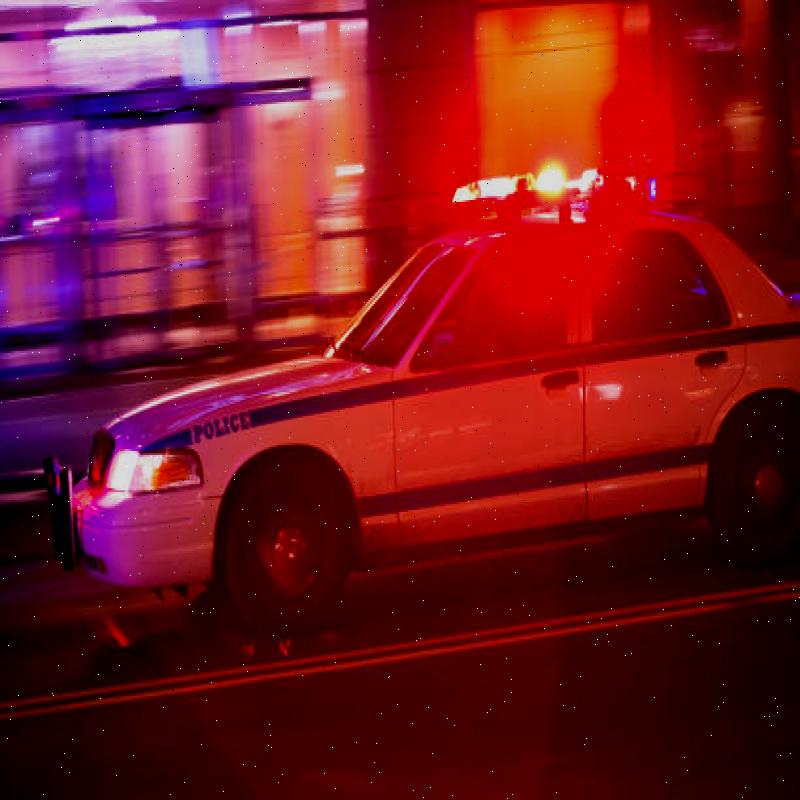AmbulanceSiren: (444, 156, 656, 209)
